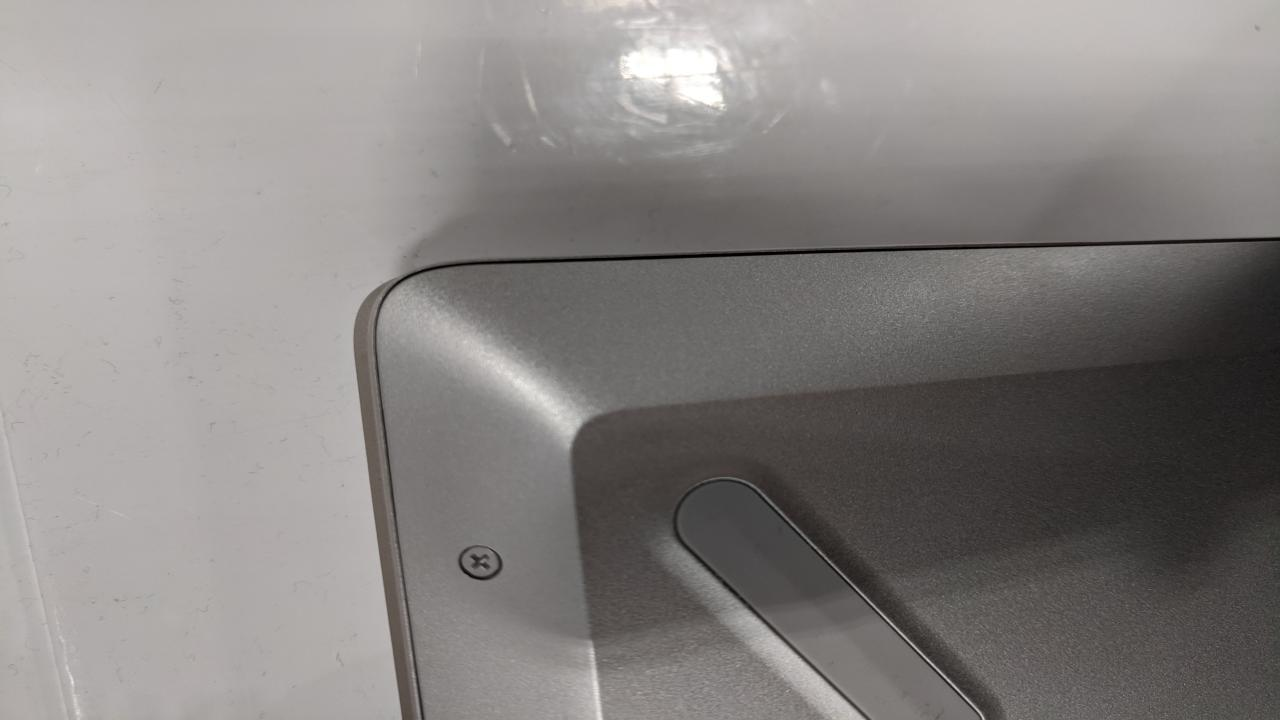CRS: (456, 544, 511, 582)
